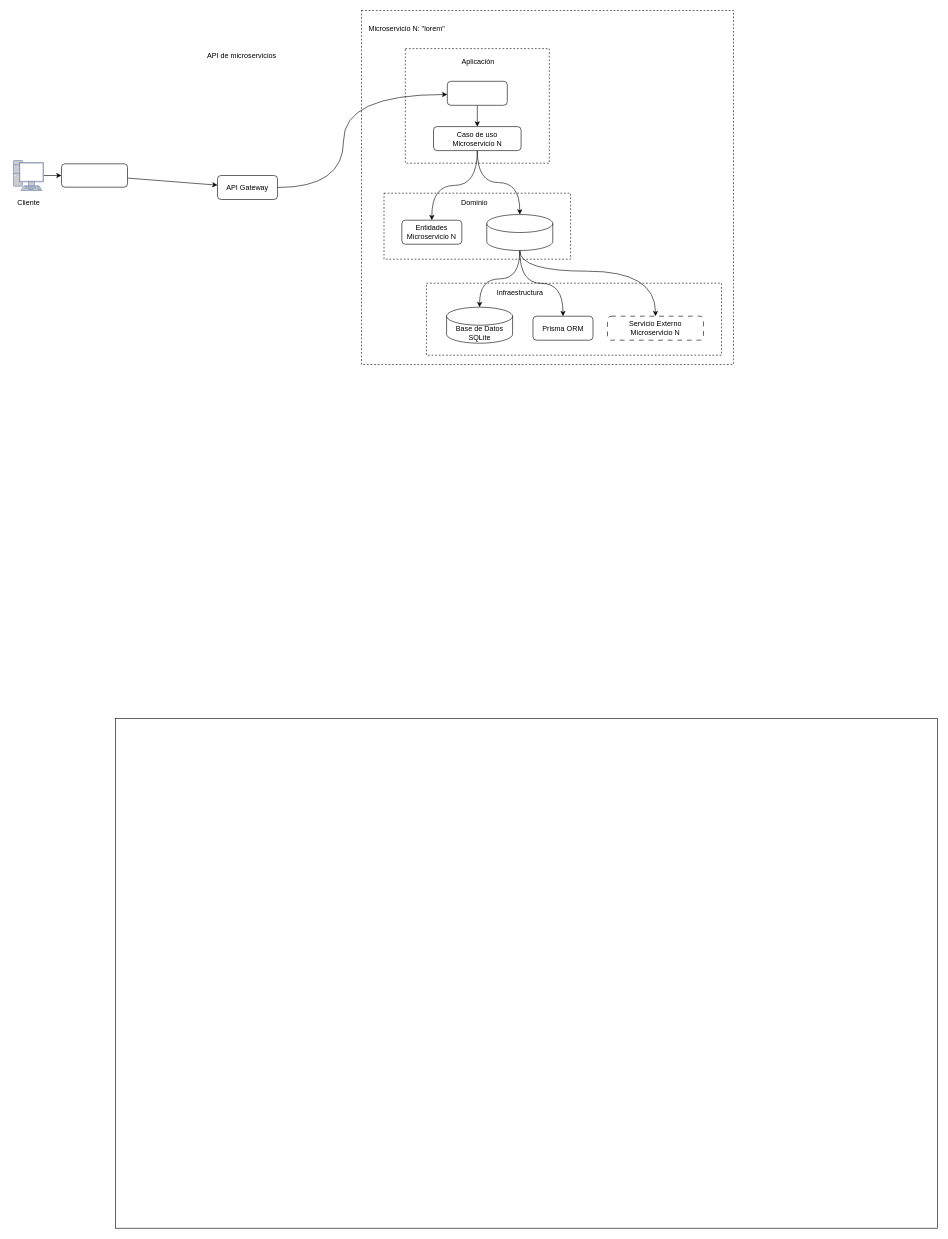
Some shapes in this 948 by 1239 pixel diagram are drawn without their labels. Here are the shapes that lost their labels. From the top down, the centre of each, then its label:
At pixel 477 93: "Controlador".
At pixel 94 175: "Front-End Web".
At pixel 519 232: "Repositorio Microservicio N".
